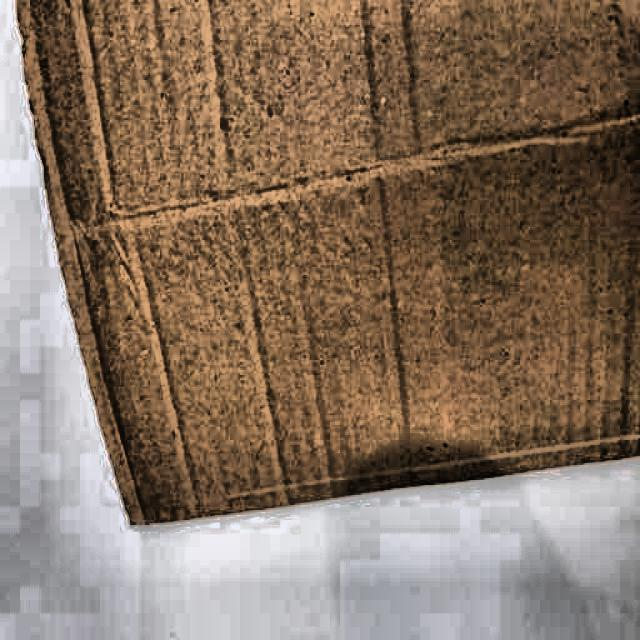cardboard: (13, 4, 637, 525)
